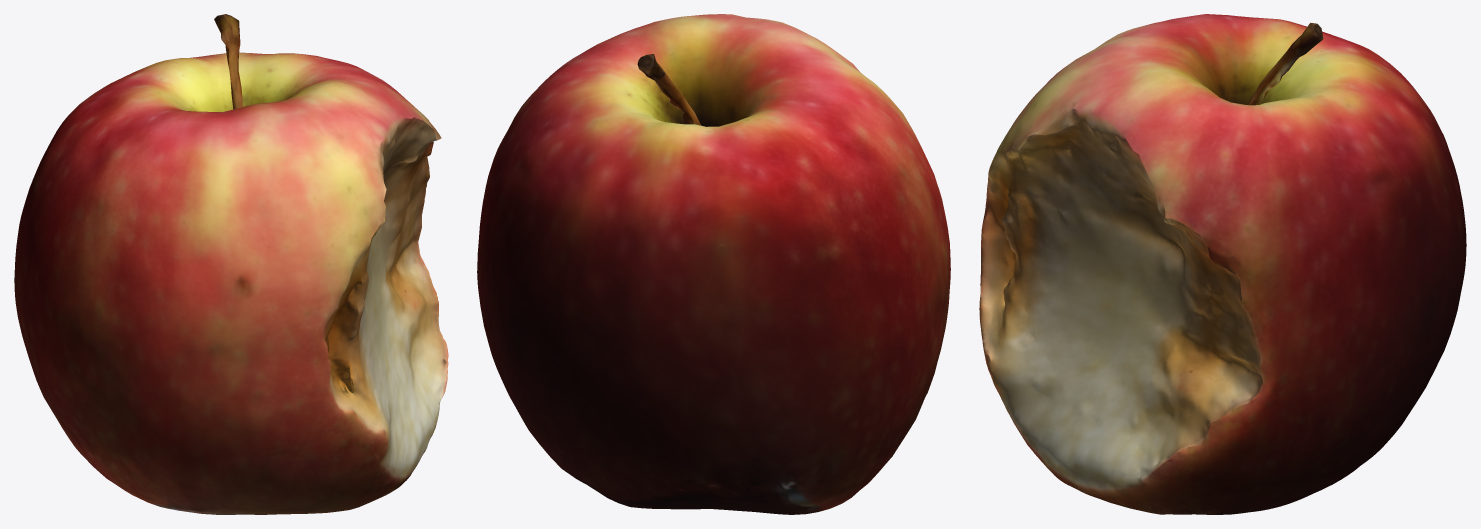
Rendered from bitten_apple.glb.
3 views of the same model, side by side, from view 1: azimuth 30°, elevation 25°; view 2: azimuth 150°, elevation 25°; view 3: azimuth 270°, elevation 25° (orthographic). The views are drawn at different scales.
Parts seen in each view (by area): view 1: Object_2; view 2: Object_2; view 3: Object_2.
Boxes of the visible parts, bbox=[...] form: Object_2: bbox=[14, 14, 448, 514]; Object_2: bbox=[477, 14, 950, 514]; Object_2: bbox=[979, 14, 1466, 514].
Size of the model in its own units: 2.54 by 2.71 by 2.6.
1 material, 1 textured.
